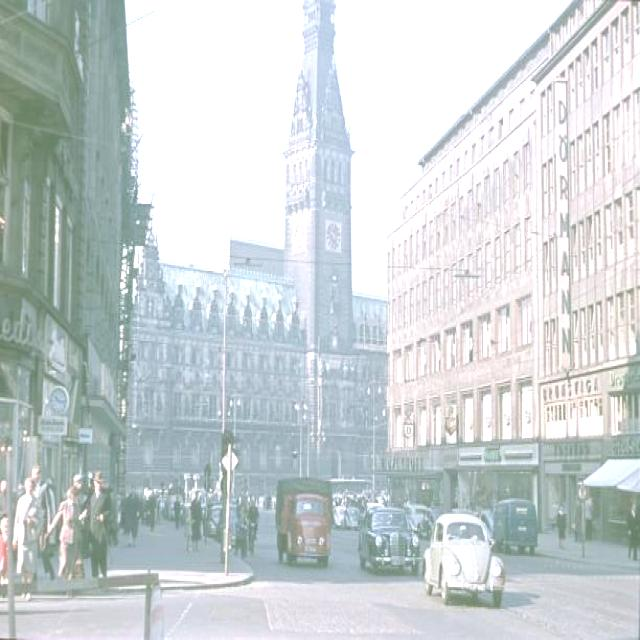car: (428, 514, 506, 609), (276, 487, 331, 569), (364, 498, 418, 575)
